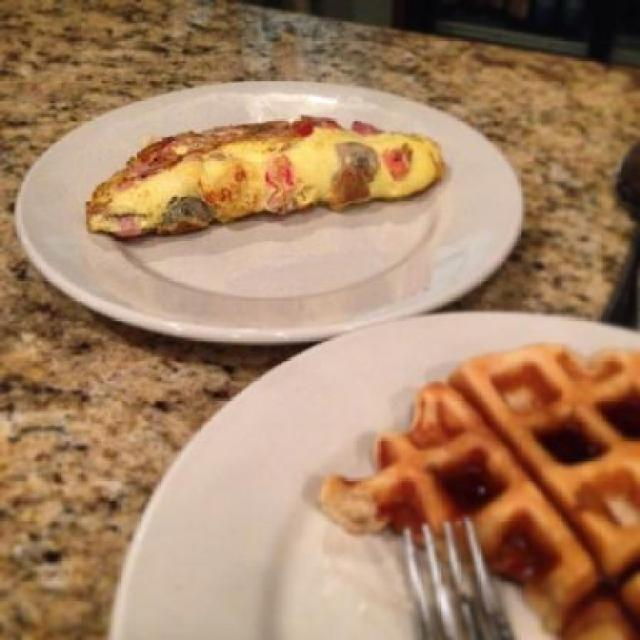Waffle: (315, 339, 639, 639)
